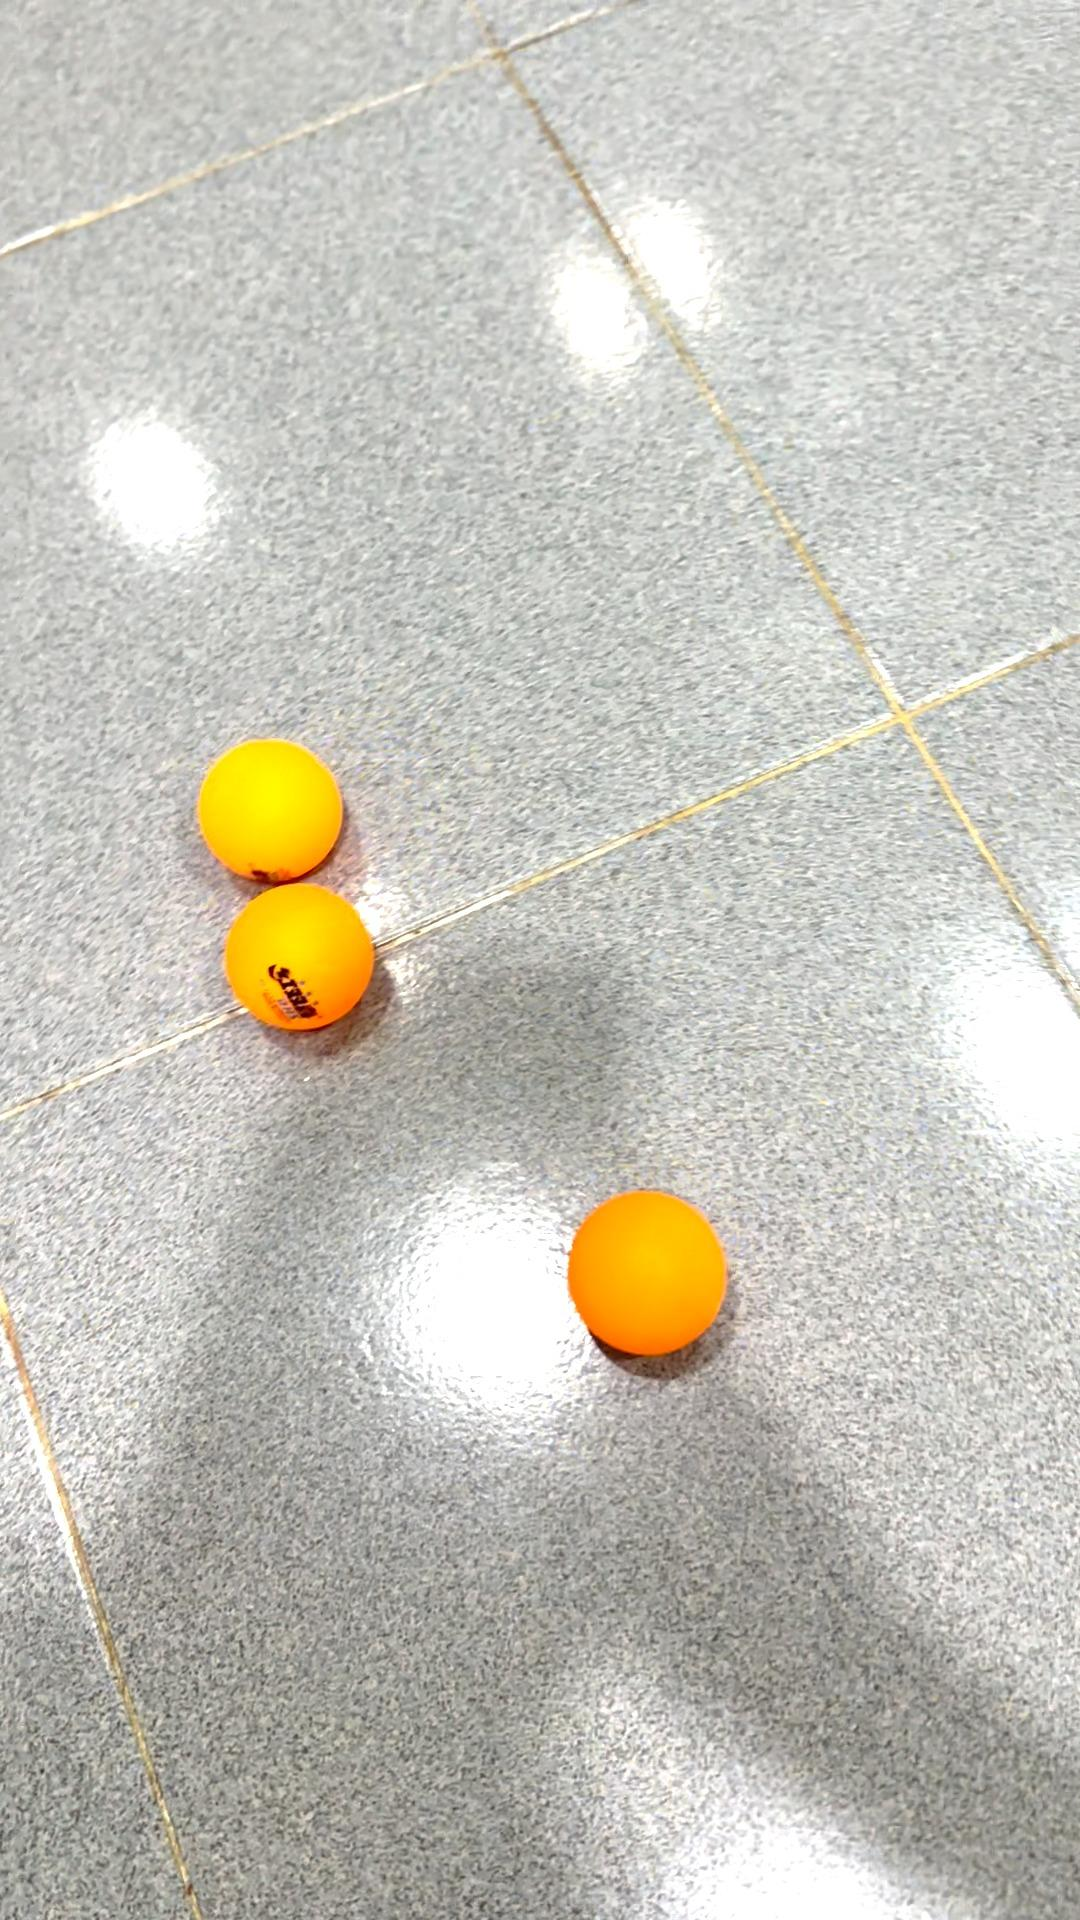oball: (562, 1175, 750, 1379), (208, 881, 393, 1052), (181, 717, 361, 890)
